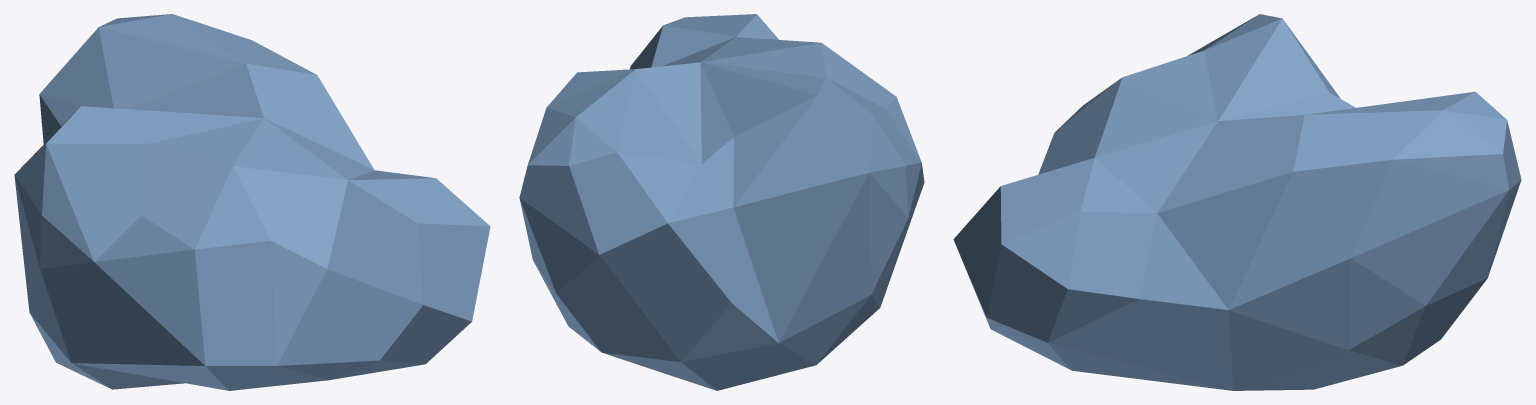
The model's file is Cloud3.fbx.
3 renders of one model, left to right at view 1: azimuth 30°, elevation 25°; view 2: azimuth 150°, elevation 25°; view 3: azimuth 270°, elevation 25°, orthographic. The views are drawn at different scales.
Visible parts, largest first — view 1: Cloud3; view 2: Cloud3; view 3: Cloud3.
Boxes of the visible parts, bbox=[...] form: Cloud3: bbox=[14, 14, 490, 390]; Cloud3: bbox=[519, 14, 924, 390]; Cloud3: bbox=[953, 14, 1521, 390].
Bounding box in the file's own units: 153 × 123 × 202.
